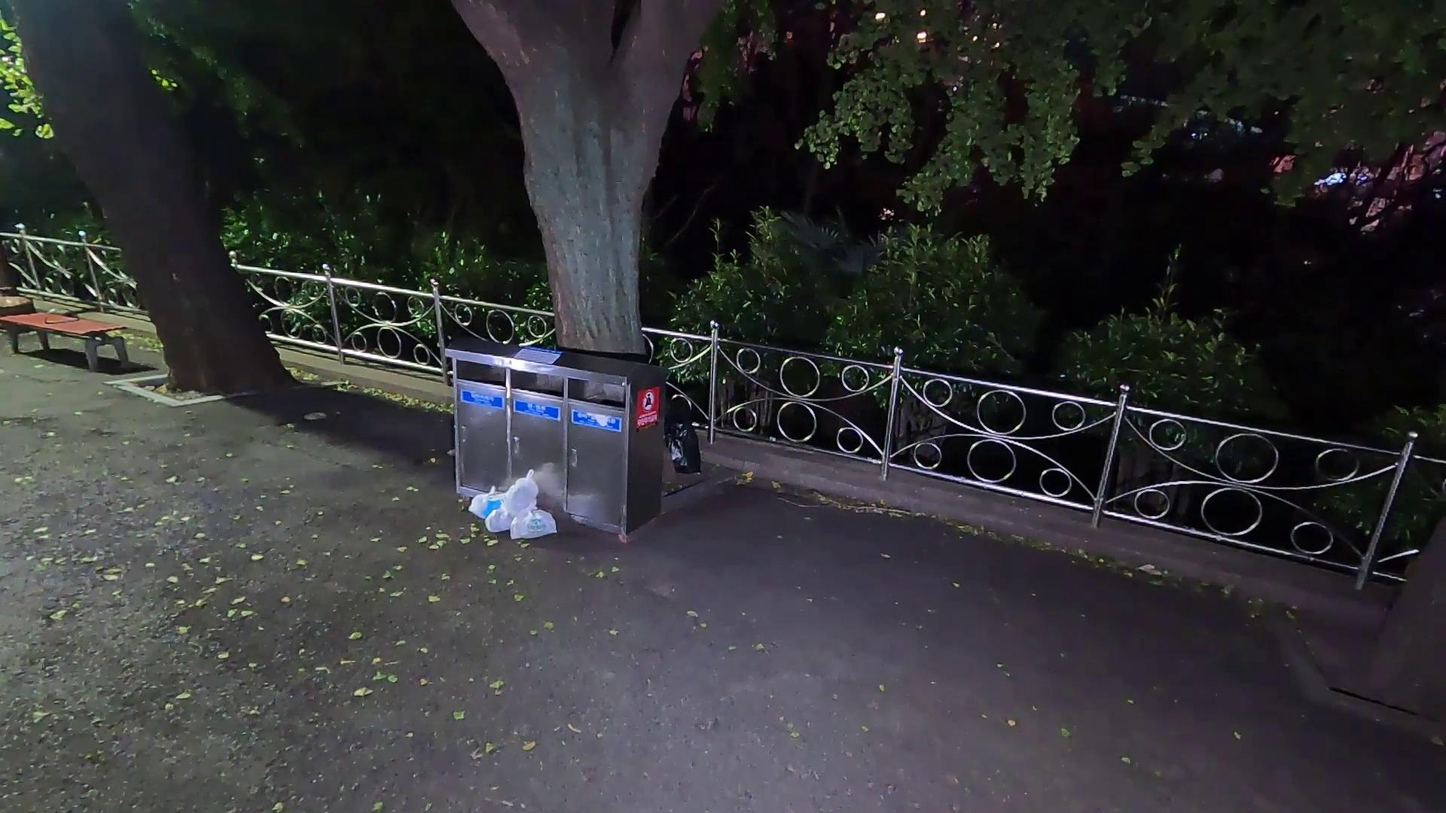trash: (667, 399, 710, 473), (507, 498, 559, 543), (499, 468, 543, 517), (467, 486, 505, 523), (482, 506, 522, 533)
